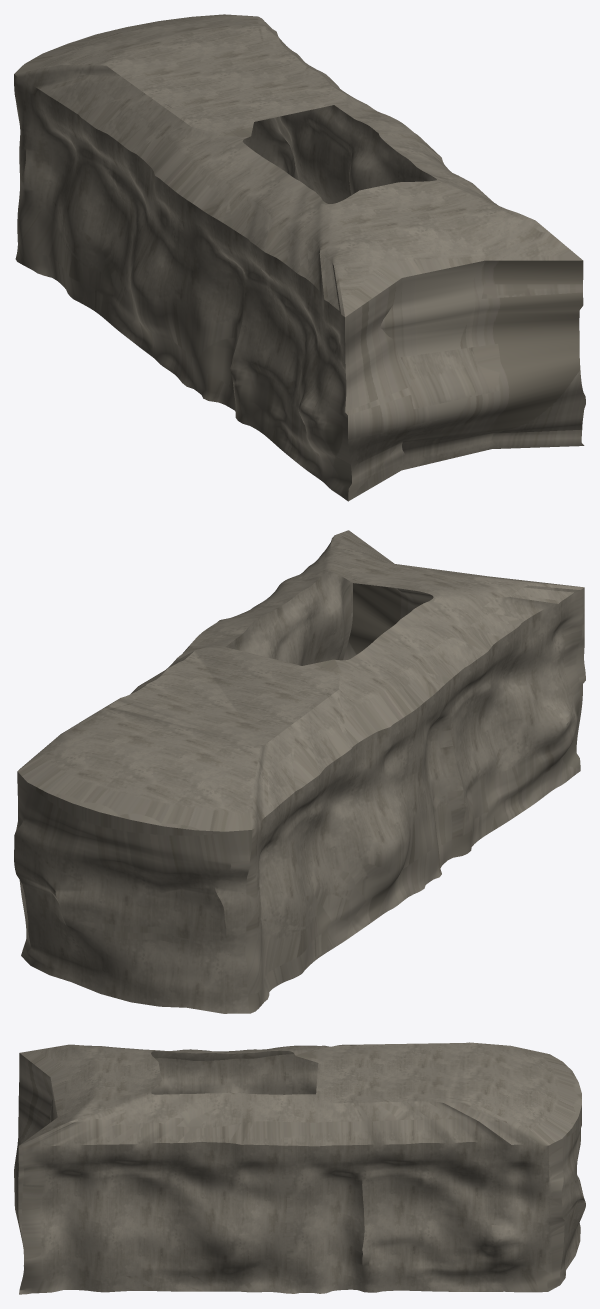
File: caveWalls.fbx
3 renders of one model, top to bottom at view 1: azimuth 30°, elevation 25°; view 2: azimuth 150°, elevation 25°; view 3: azimuth 270°, elevation 25°, orthographic. The views are drawn at different scales.
Parts seen in each view (by area): view 1: Plane.004; view 2: Plane.004; view 3: Plane.004.
Boxes of the visible parts, left/top/right/bottom form: Plane.004: left=14, top=14, right=585, bottom=501; Plane.004: left=14, top=530, right=585, bottom=1013; Plane.004: left=14, top=1042, right=585, bottom=1294.
Size of the model in its own units: 23451 by 19059 by 54721.
